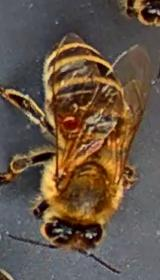varroa_mite: (61, 112, 80, 130)
